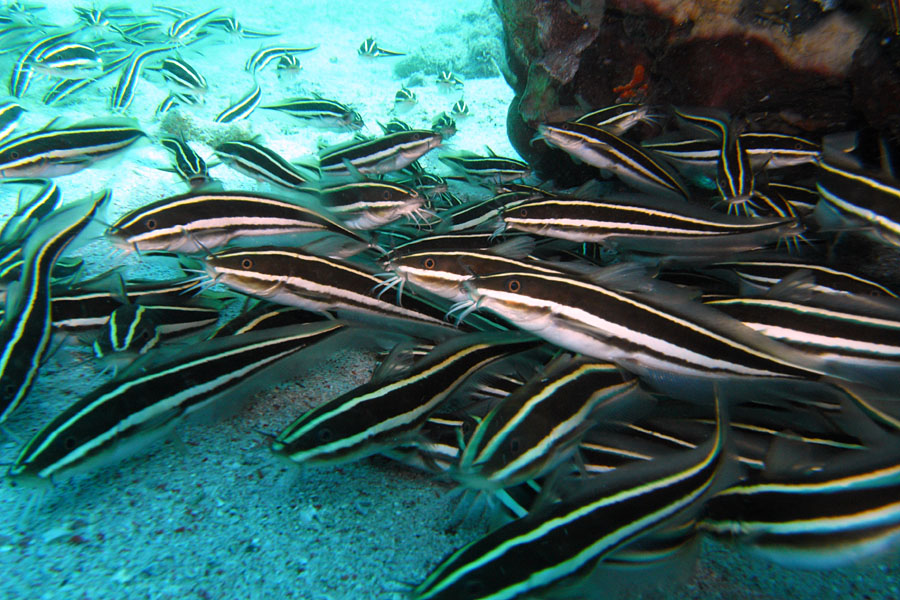gonzui: (462, 259, 842, 394), (109, 173, 388, 266)
